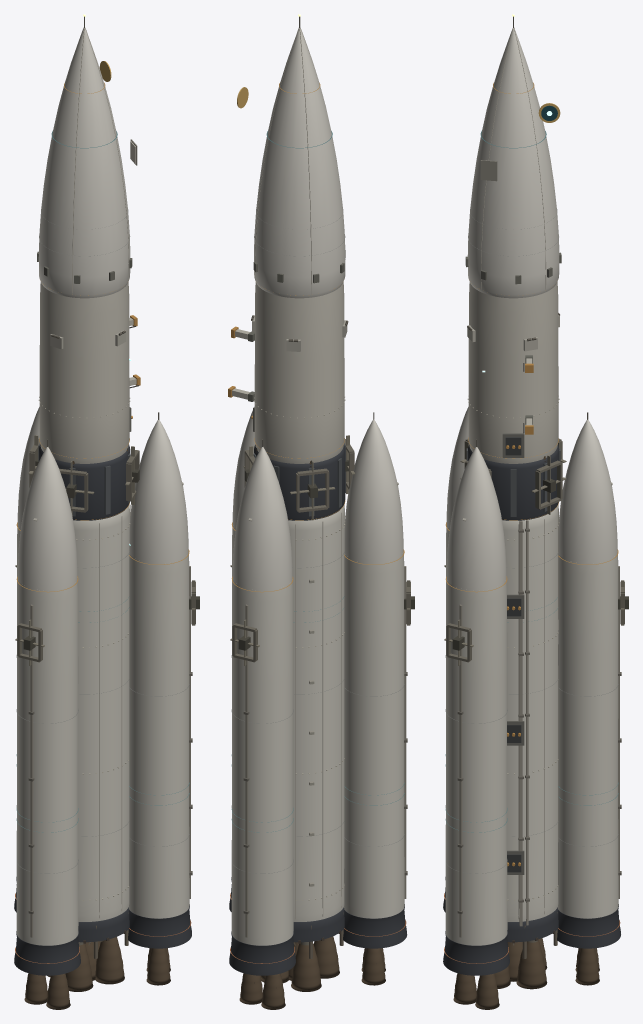
The model's file is rocket.glb.
The picture shows the model from 3 angles, left to right: view 1: azimuth 30°, elevation 25°; view 2: azimuth 150°, elevation 25°; view 3: azimuth 270°, elevation 25°; orthographic projection.
Visible parts, largest first — view 1: Rocket_R_Shell, Rocket_R_Dark, Rocket_R_Nozzle, Rocket_R_Metal, Rocket_R_Gold; view 2: Rocket_R_Shell, Rocket_R_Dark, Rocket_R_Metal, Rocket_R_Nozzle, Rocket_R_Gold; view 3: Rocket_R_Shell, Rocket_R_Dark, Rocket_R_Metal, Rocket_R_Nozzle, Rocket_R_Gold.
Part boxes in pixels (<box>): Rocket_R_Shell: <box>16,27,190,945</box>; Rocket_R_Dark: <box>14,325,191,975</box>; Rocket_R_Nozzle: <box>24,448,170,1009</box>; Rocket_R_Metal: <box>15,16,199,958</box>; Rocket_R_Gold: <box>15,61,191,963</box>; Rocket_R_Shell: <box>231,28,406,945</box>; Rocket_R_Dark: <box>229,445,407,975</box>; Rocket_R_Metal: <box>230,16,414,983</box>; Rocket_R_Nozzle: <box>239,448,385,1009</box>; Rocket_R_Gold: <box>228,83,406,963</box>; Rocket_R_Shell: <box>445,27,619,945</box>; Rocket_R_Dark: <box>443,105,620,975</box>; Rocket_R_Metal: <box>444,16,628,958</box>; Rocket_R_Nozzle: <box>453,456,599,1009</box>; Rocket_R_Gold: <box>444,82,620,963</box>.
Bounding box in the file's own units: 11.92 × 60.84 × 10.65.
